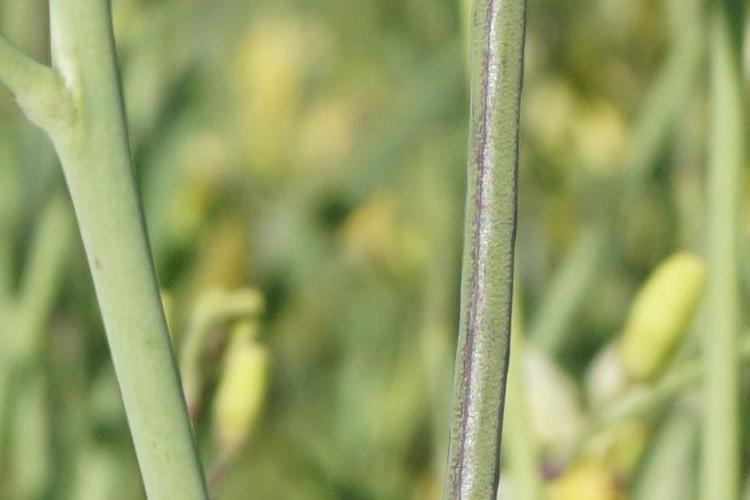bud: (611, 256, 706, 375)
